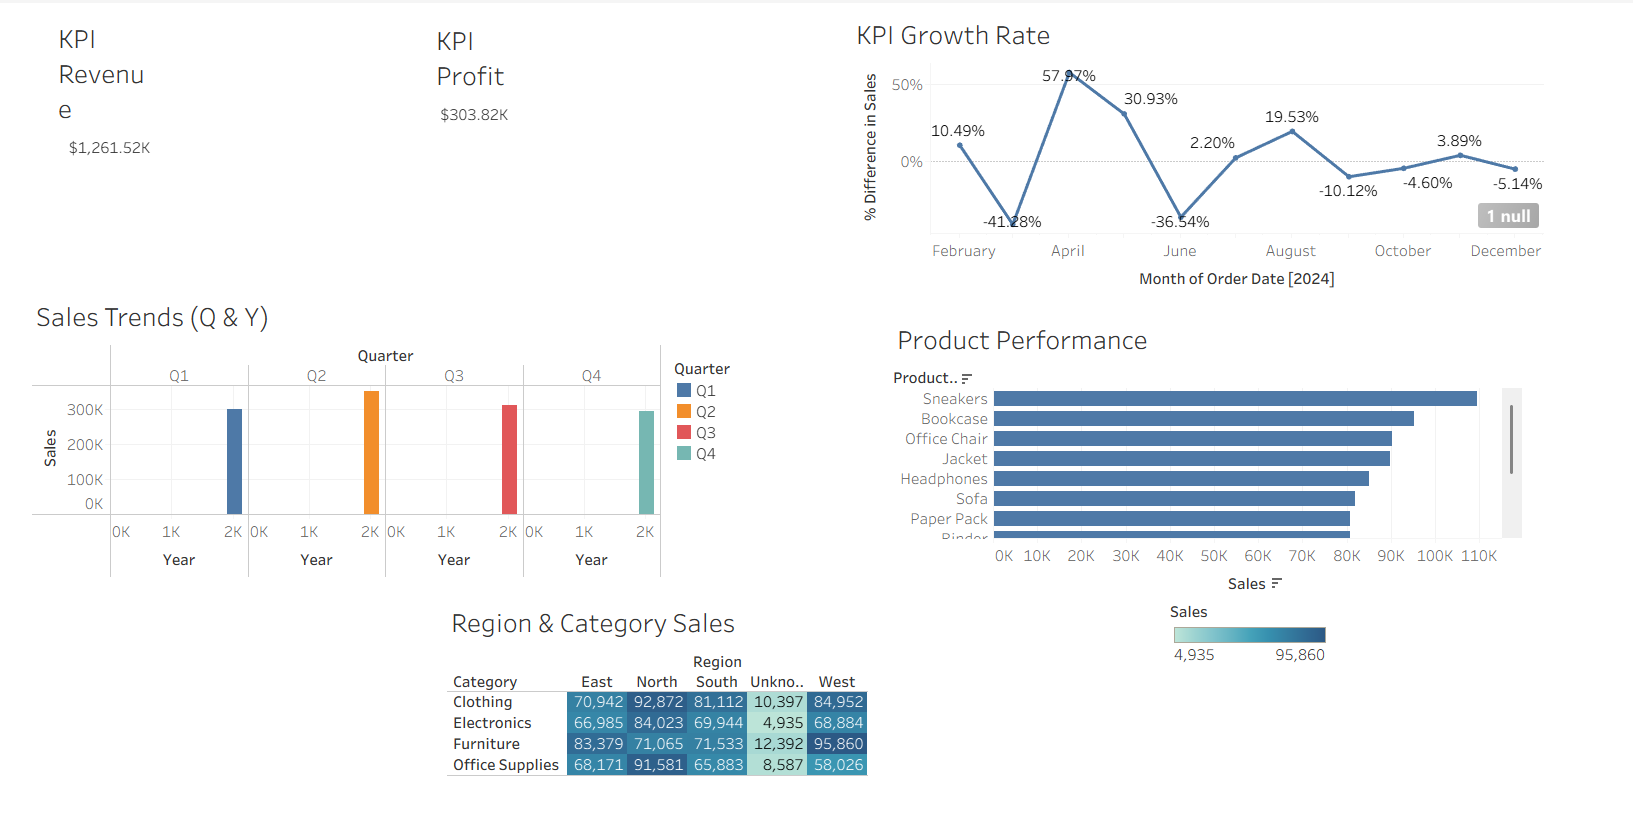

The page's visual inventory and layout, read from the dashboard file:
{"tool":"tableau","page":{"name":"Dashboard 1","canvas":[1000,1000],"units":"permille","ordinal":0},"visuals":[{"type":"worksheet","title":"KPI Growth Rate","mark":"Automatic","rows":["Sales"],"cols":["Order_Date"],"box":[452,11.8,366.3,332.6]},{"type":"worksheet","title":"KPI Revenue","mark":"Automatic","box":[29,16.4,178,198.6]},{"type":"worksheet","title":"KPI Profit","mark":"Automatic","box":[229.3,18.8,199.8,200.9]},{"type":"worksheet","title":"Sales Trends (Q & Y)","mark":"Bar","rows":["Sales"],"cols":["Quarter","Year"],"box":[17.5,343.1,333.1,332.6]},{"type":"worksheet","title":"Product Performance","mark":"Automatic","rows":["Product_Name"],"cols":["Sales"],"box":[473.8,370.2,333.1,332.6]},{"type":"legend","title":"Sales Trends (Q & Y)","param":"[federated.0p0tau40k1m8i01gs6tmh1lre127].[none:Quarter:nk]","box":[357.3,417.2,84.5,124.6]},{"type":"worksheet","title":"Region & Category Sales","mark":"Square","rows":["Category"],"cols":["Region"],"box":[237.2,702.7,333.1,270.3]},{"type":"legend","title":"Region & Category Sales","param":"[federated.0p0tau40k1m8i01gs6tmh1lre127].[sum:Sales:qk]","box":[620.4,702.7,84.5,103.4]}]}

Visuals, with their boxes on the dashboard's canvas, which has no fixed pixel size, in thousandths of its width and height (x1, y1, x2, y2). These are canvas units, not pixel positions in the 1633x835 screenshot, which may show the page scaled, cropped or inside an application window:
"KPI Growth Rate" worksheet: bbox(452, 12, 818, 344)
"KPI Revenue" worksheet: bbox(29, 16, 207, 215)
"KPI Profit" worksheet: bbox(229, 19, 429, 220)
"Sales Trends (Q & Y)" worksheet (Bar marks): bbox(18, 343, 351, 676)
"Product Performance" worksheet: bbox(474, 370, 807, 703)
"Sales Trends (Q & Y)" legend: bbox(357, 417, 442, 542)
"Region & Category Sales" worksheet (Square marks): bbox(237, 703, 570, 973)
"Region & Category Sales" legend: bbox(620, 703, 705, 806)
